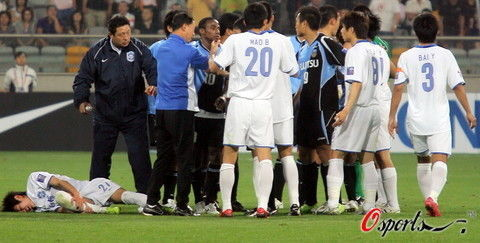10+: (1, 1, 474, 215)
down: (2, 173, 157, 214)
